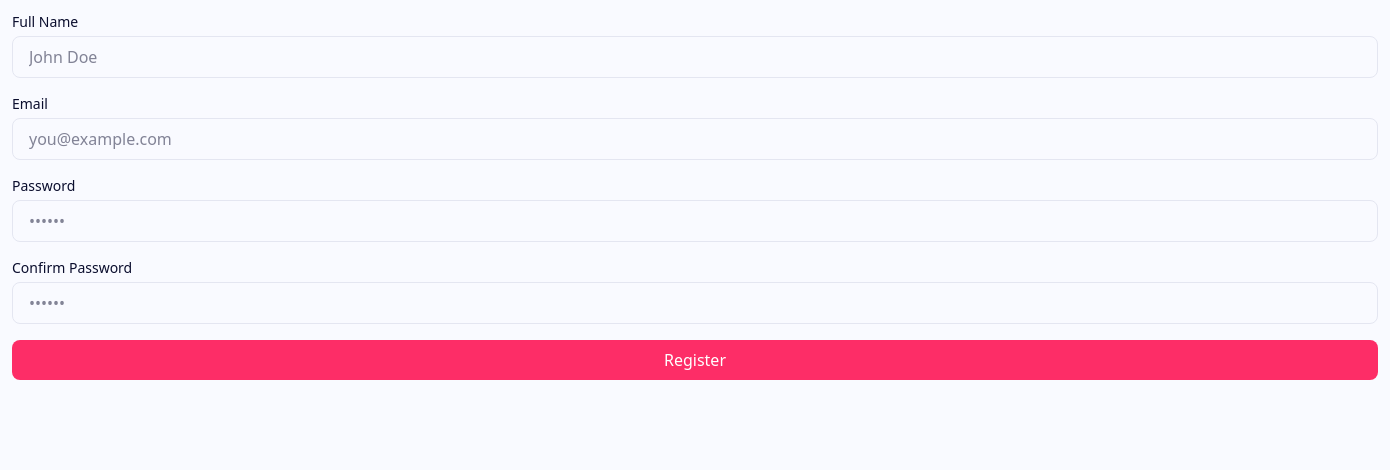
Test: RegisterForm › Form Validation - Full Name › should display error for empty full name
This screenshot has width=1390, height=470.
Click the button "Register" at (695, 360), box x1=12 y1=340 x2=1378 y2=380
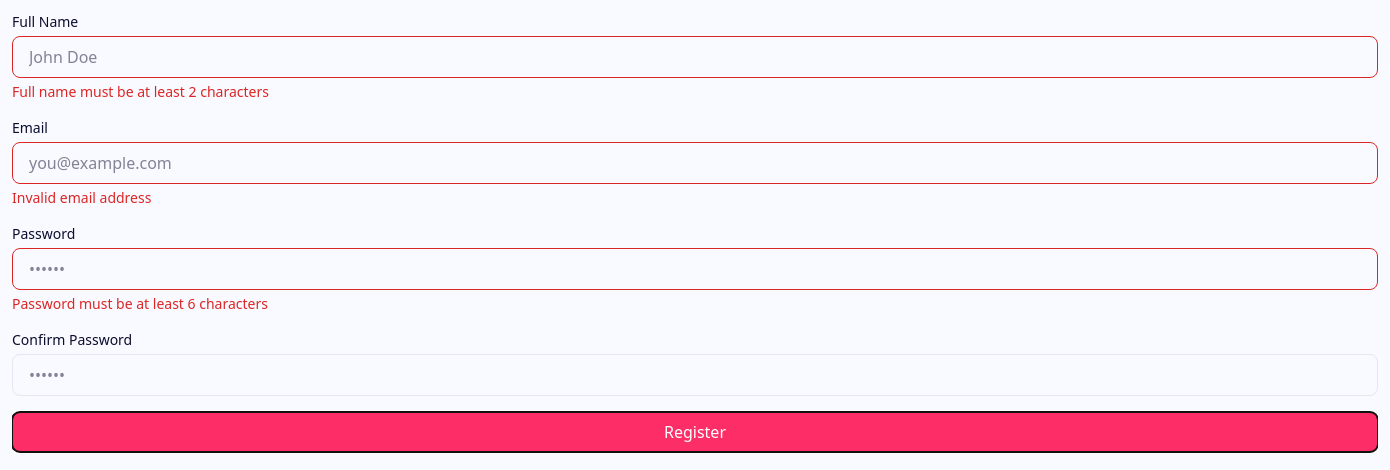
Expected: the text "Full name must be at least 2 characters" is shown, x1=12 y1=82 x2=269 y2=101
